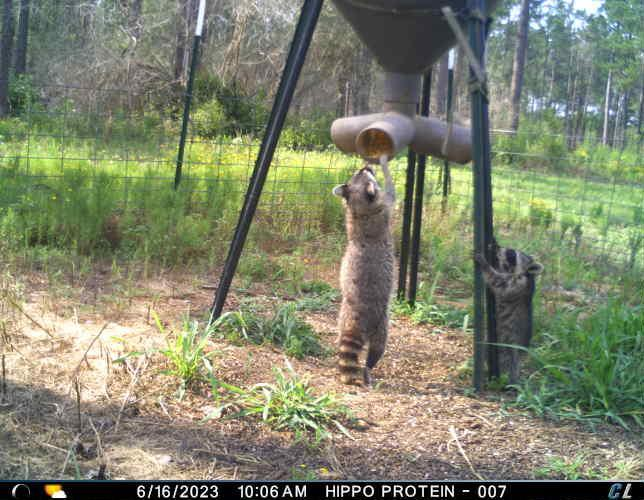Raccoon: (329, 157, 402, 385), (474, 242, 544, 394)
